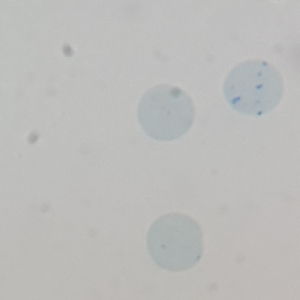aggregate reticulocyte: (221, 58, 285, 117)
erythrocyte: (135, 83, 195, 143)
punctate reticulocyte: (144, 212, 206, 274)
